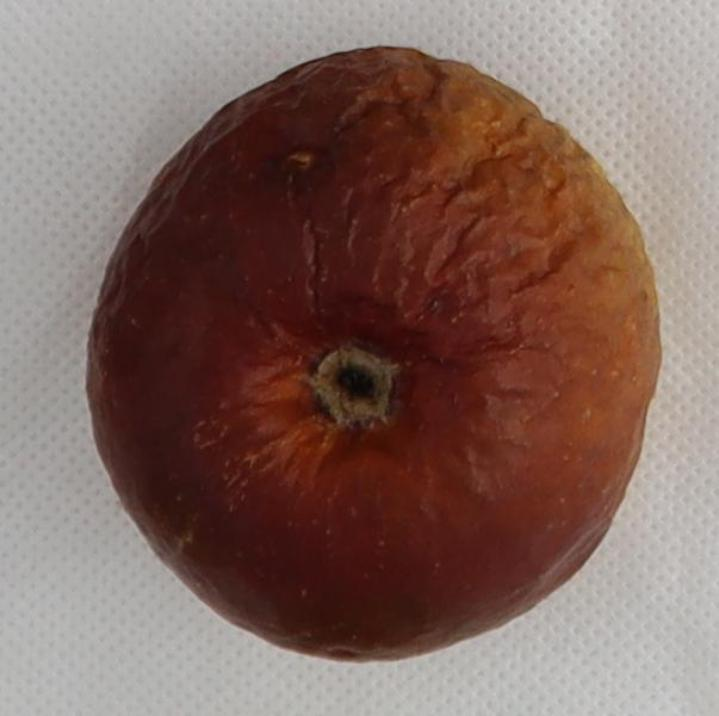apple: (87, 47, 660, 660)
rot_mold_decay: (87, 47, 660, 659)
